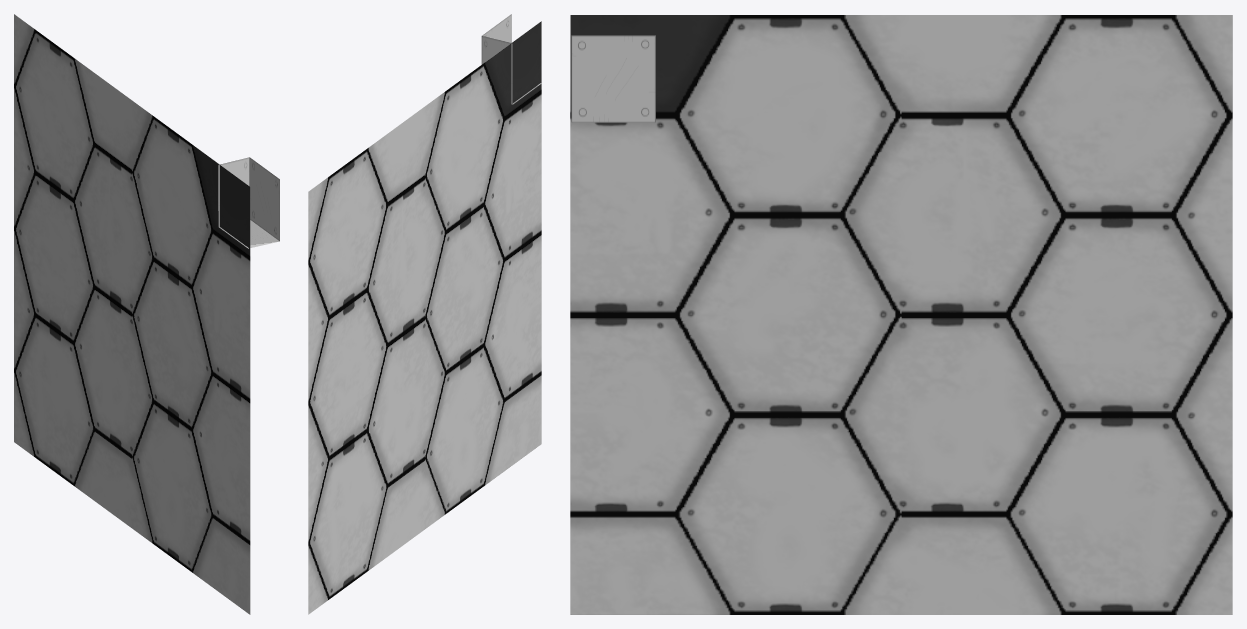
File: Wall_CornerTopLeft.fbx
3 renders of one model, left to right at view 1: azimuth 30°, elevation 25°; view 2: azimuth 150°, elevation 25°; view 3: azimuth 270°, elevation 25°, orthographic. The views are drawn at different scales.
Parts seen in each view (by area): view 1: pPlane128; view 2: pPlane128; view 3: pPlane128.
Boxes of the visible parts, x1=… form: pPlane128: x1=14, y1=14, x2=279, y2=614; pPlane128: x1=308, y1=14, x2=541, y2=614; pPlane128: x1=570, y1=15, x2=1232, y2=614.
Size of the model in its own units: 0.1534 by 2 by 2.
